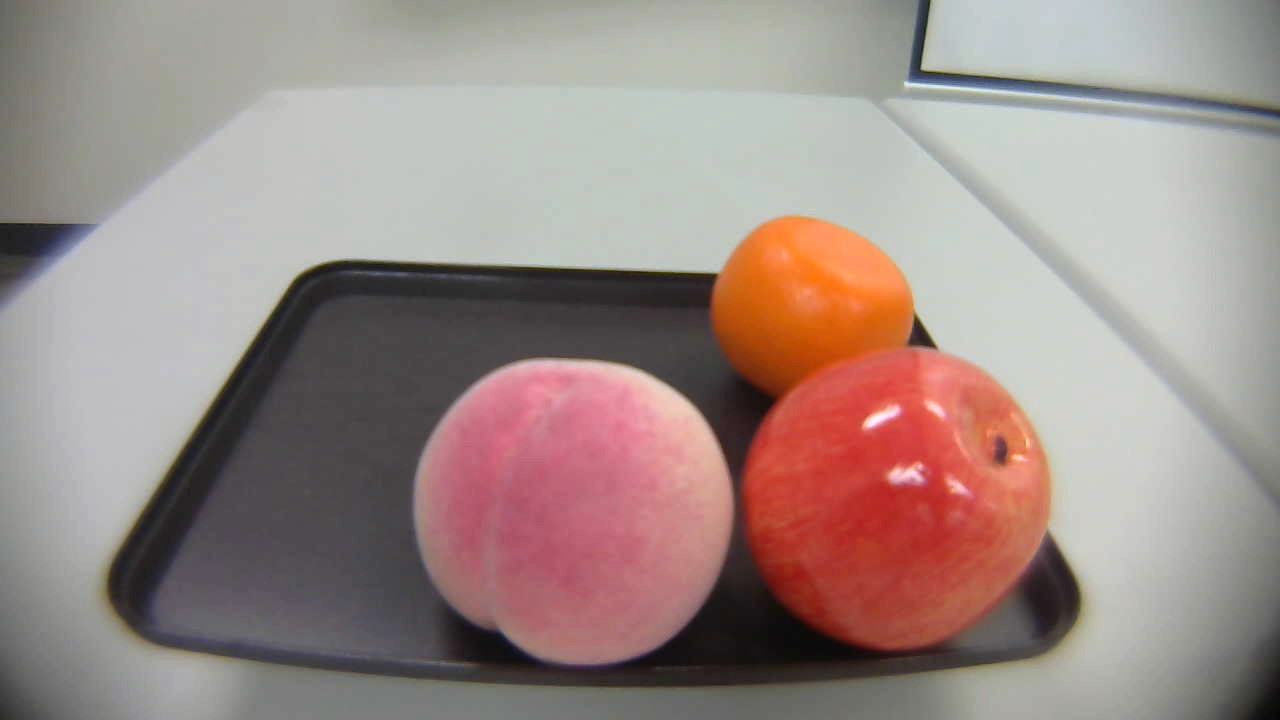orange: (705, 211, 931, 403)
peach: (407, 351, 739, 679)
red apple: (734, 347, 1057, 645)
